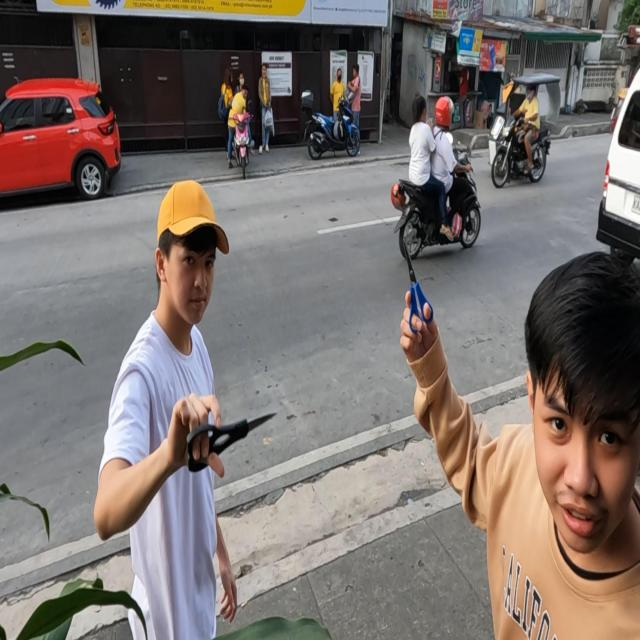scissor: (187, 410, 277, 474), (404, 238, 434, 336)
